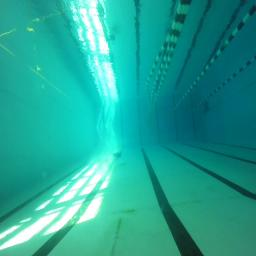Full: (113, 151, 122, 158)
